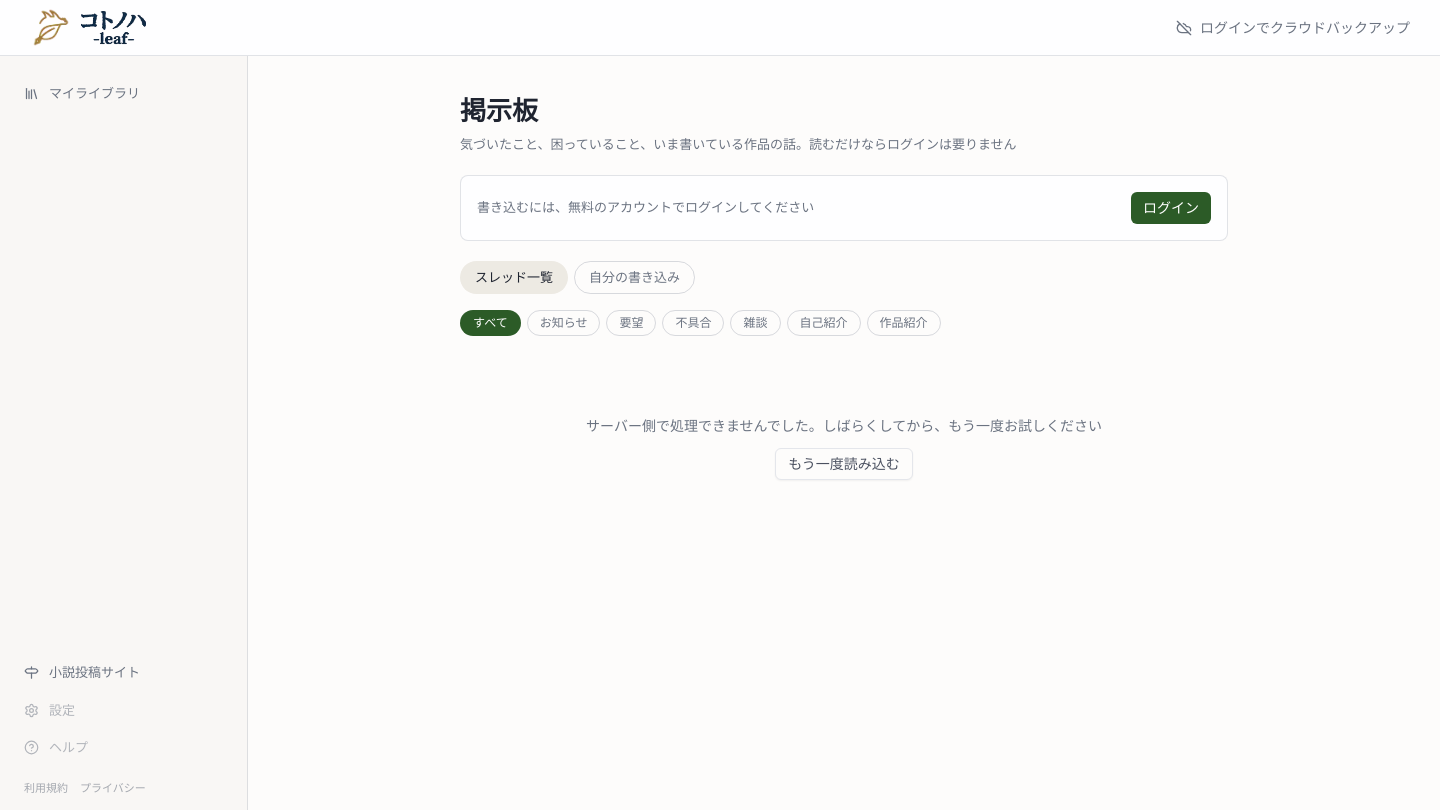
Scenario: BoardPage（掲示板の一覧） › 取得に失敗したら理由をそのまま出し、押し直せる
Check: the message shows "サーバー側で処理できませんでした", box [586,416,1102,435]
Click the button "もう一度読み込む": (844, 464) [775,448,913,480]
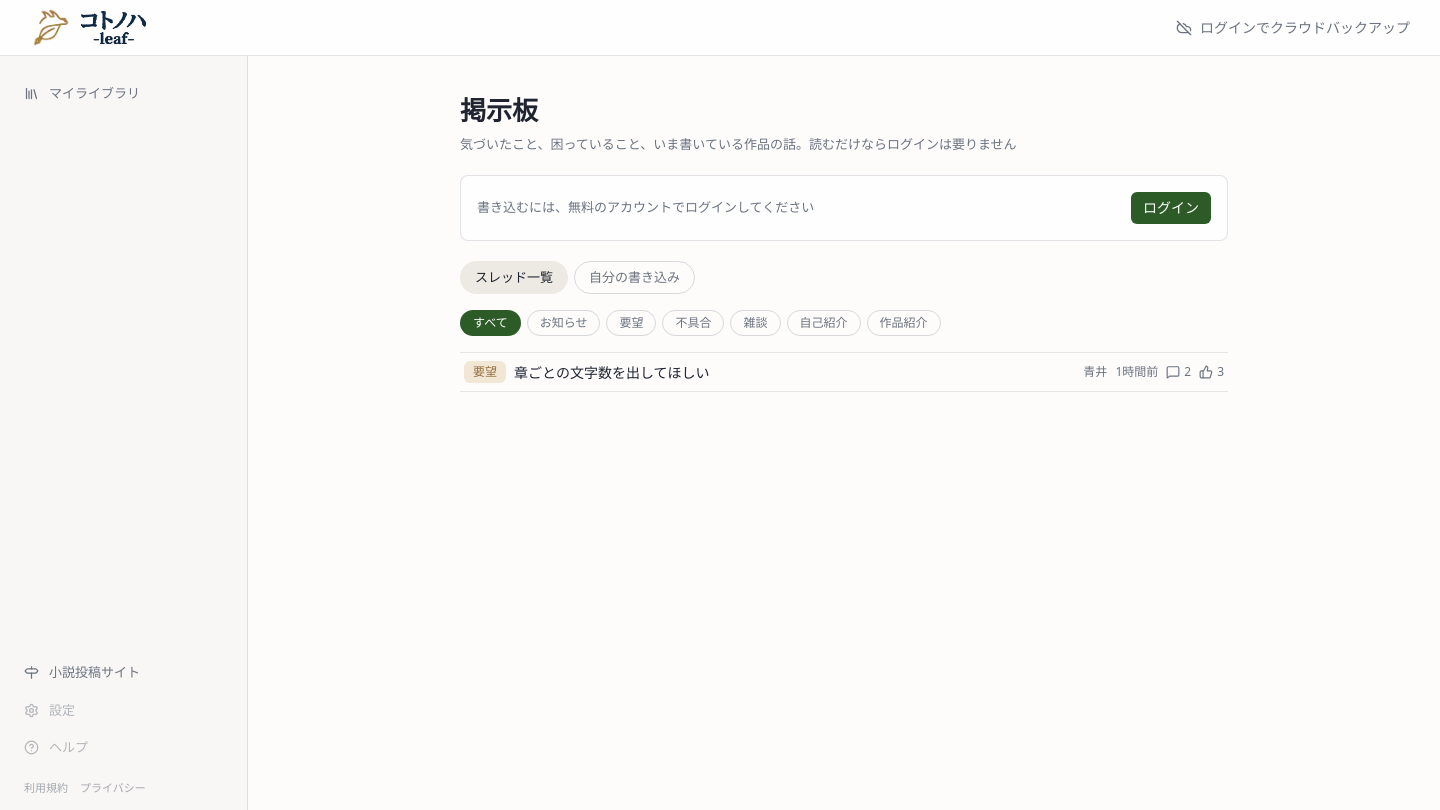
Check: the heading "章ごとの文字数を出してほしい" is shown, box [514,362,710,382]
